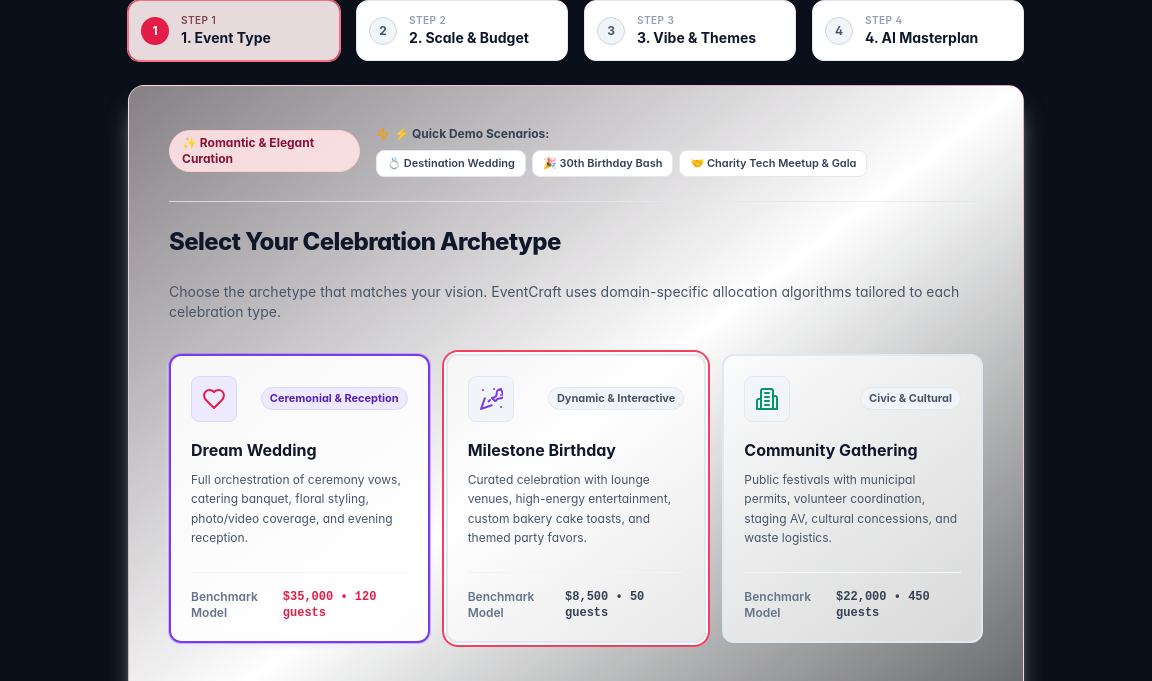
EventWizard Component (WCAG 2.1 AA & Keyboard UX) › supports full keyboard navigation between steps using Tab, Space, and Enter
Type keys " "
(page scrolled)
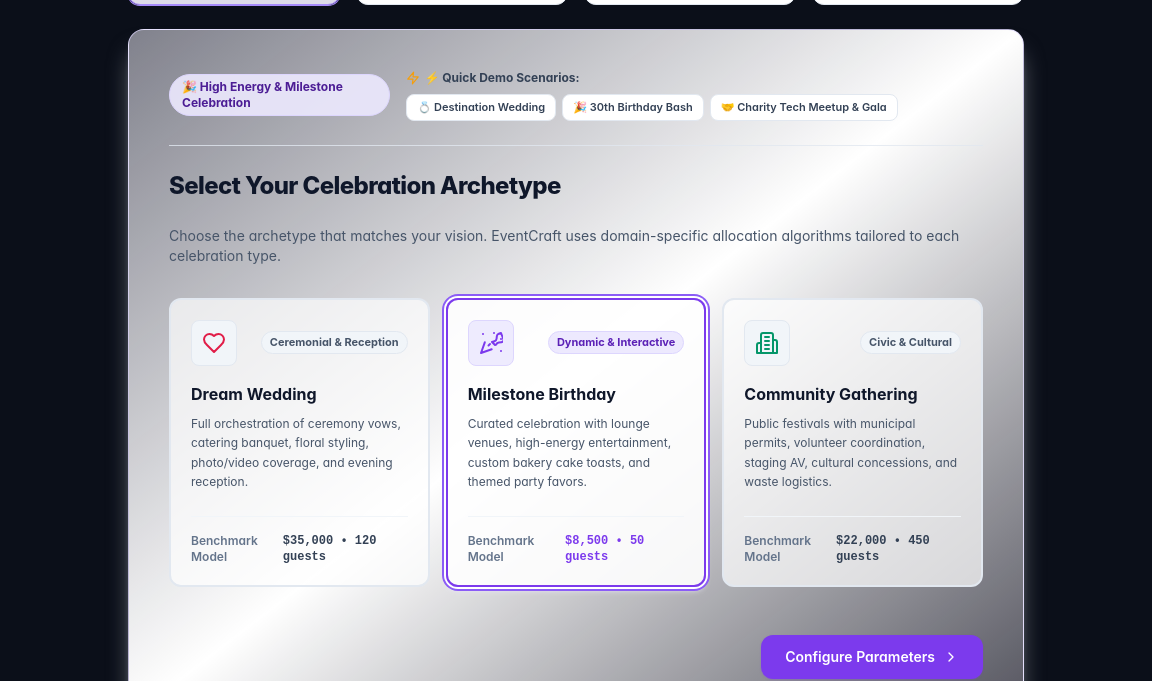
Result: the radio button labelled "Milestone Birthday" is checked at [446,298,706,586]
// Next step button
Click the button "Configure Parameters" at (872, 656), box [761,634,983,678]
(page scrolled)
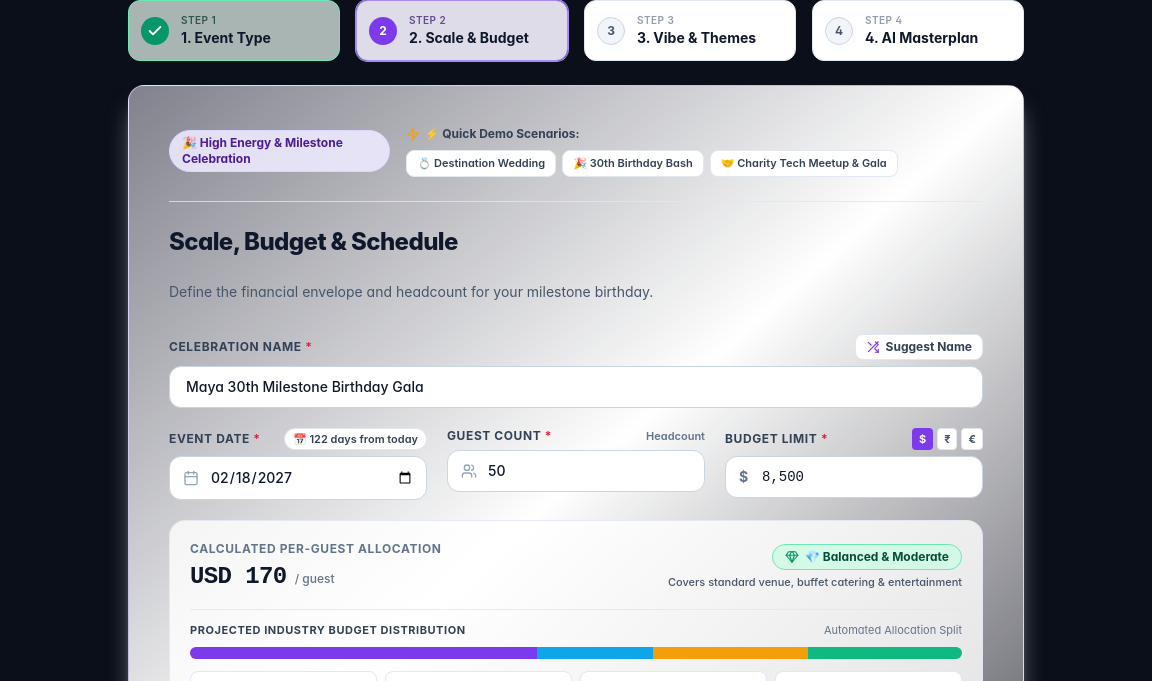
Result: the text "Scale, Budget & Schedule" is shown at [169,226,458,258]
